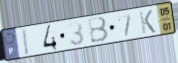3: (67, 19, 85, 48)
4: (41, 23, 61, 52)
7: (117, 13, 133, 38)
B: (86, 15, 111, 45)
I: (22, 27, 32, 58)
K: (138, 9, 157, 35)
